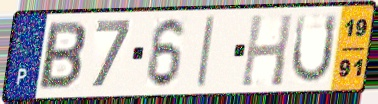6: (145, 16, 188, 91)
7: (89, 17, 135, 92)
B: (36, 20, 89, 93)
H: (238, 12, 296, 89)
I: (194, 13, 218, 91)
U: (288, 12, 340, 86)
